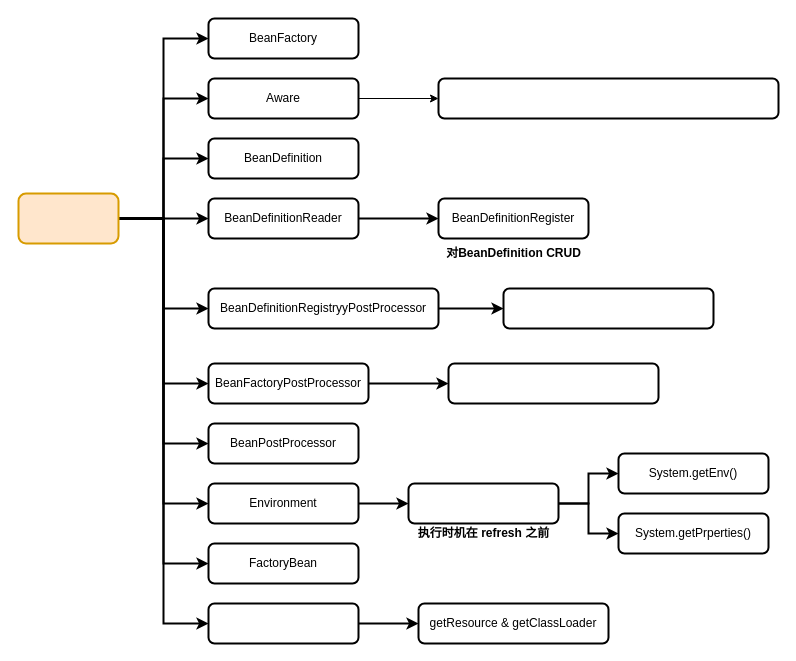
The diagram is 796 pixels wide and 661 high, and some of its shapes have lost their labels. The centre of each missing label's shape, as x and y in pixels:
"interface" goes at point 68,218.
"ResourceLoader" goes at point 283,623.
"StandardEnvironment" goes at point 483,503.
"修改的是BeanDefinition 信息" goes at point 608,308.
"修改的是BeanFactory里所有的对象" goes at point 553,383.
"将容器中的bean设置到实现了xxAware的对象中" goes at point 608,98.
